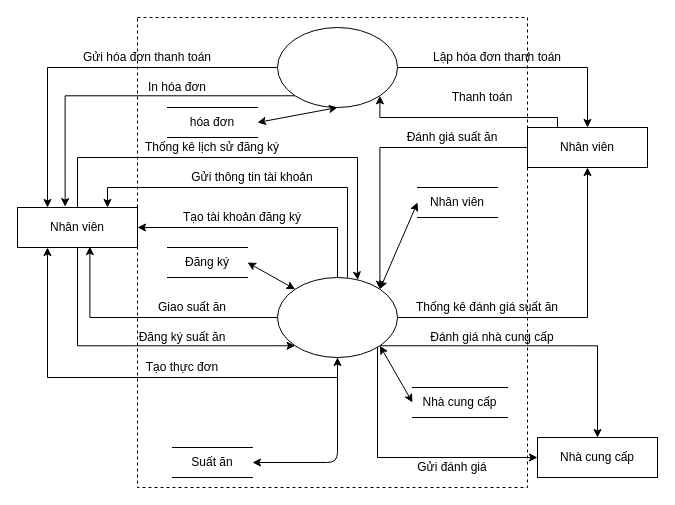
This 675x505 diagram has some shape labels left out. The shapes that lost their labels are listed below. From the top down, each one's centre as x and y in pixels, then its label:
At point 337,67: "Quản lý giao dịch".
At point 337,317: "Quản lý đăng ký".
